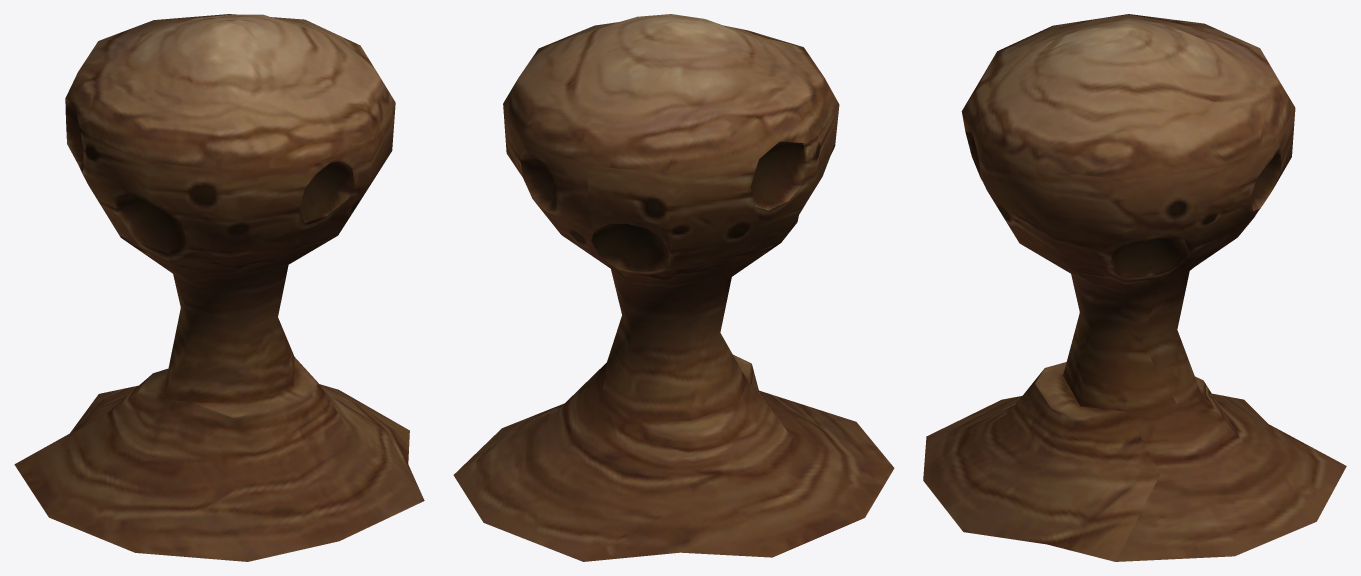
Rendered from nashgar_natural_rock_large01_01.FBX.
3 views of the same model, side by side, from view 1: azimuth 30°, elevation 25°; view 2: azimuth 150°, elevation 25°; view 3: azimuth 270°, elevation 25° (orthographic).
Visible parts, largest first — view 1: nashgar_natural_rock_large01_01; view 2: nashgar_natural_rock_large01_01; view 3: nashgar_natural_rock_large01_01.
Boxes of the visible parts, <box> form: nashgar_natural_rock_large01_01: <box>14,14,424,561</box>; nashgar_natural_rock_large01_01: <box>453,14,894,561</box>; nashgar_natural_rock_large01_01: <box>923,14,1346,561</box>.
Size of the model in its own units: 3.58 by 4.23 by 3.64.
